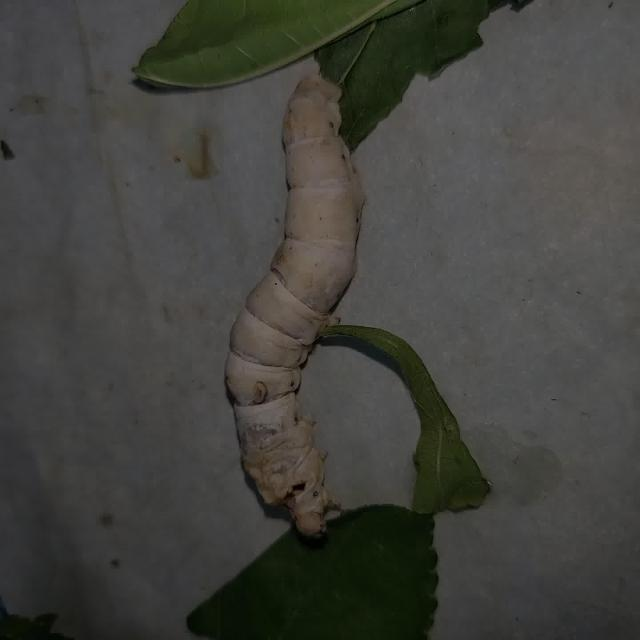Grasserie: (210, 49, 430, 605)
